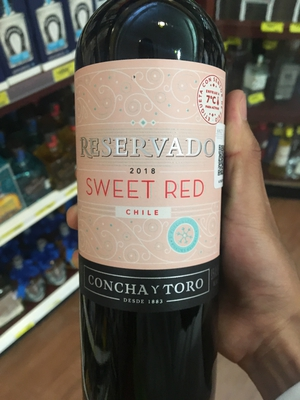reservado sweet red: (63, 14, 235, 400)
